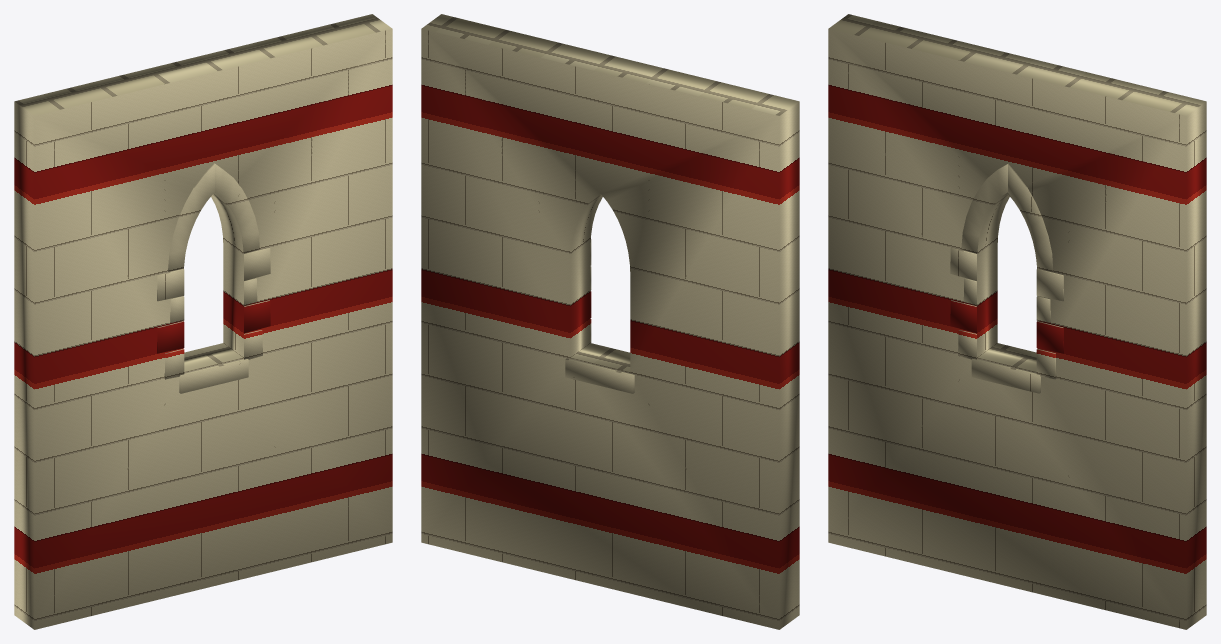
File: theodosian limewall new stone window.glb
The picture shows the model from 3 angles, left to right: view 1: azimuth 30°, elevation 25°; view 2: azimuth 150°, elevation 25°; view 3: azimuth 330°, elevation 25°; orthographic projection.
Visible parts, largest first — view 1: LimeWall_theodosian_limewall_new_stone_window_Wall, WIndow -; view 2: LimeWall_theodosian_limewall_new_stone_window_Wall, WIndow -; view 3: LimeWall_theodosian_limewall_new_stone_window_Wall, WIndow -.
Boxes of the visible parts, x1,y1,x2,y2 form: LimeWall_theodosian_limewall_new_stone_window_Wall, WIndow -: (14,14,392,629); LimeWall_theodosian_limewall_new_stone_window_Wall, WIndow -: (421,14,799,629); LimeWall_theodosian_limewall_new_stone_window_Wall, WIndow -: (828,14,1206,629).
Size of the model in its own units: 2 by 2.74 by 0.225.
3 materials, 3 textured.
